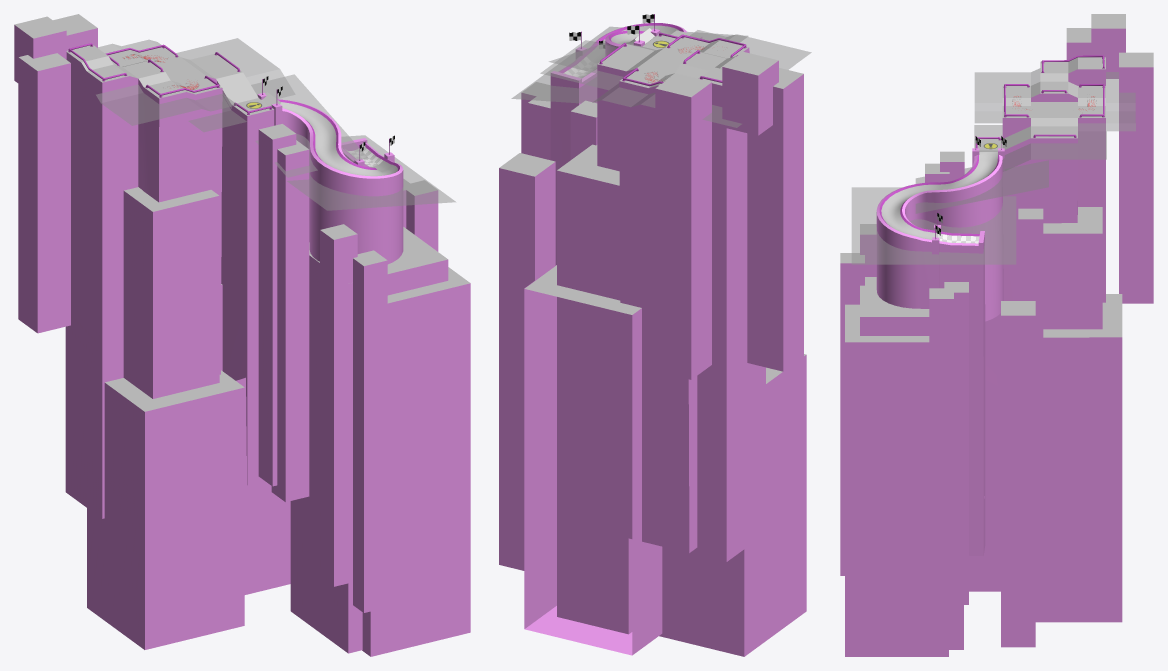
File: _armuprace.fbx
The picture shows the model from 3 angles, left to right: view 1: azimuth 30°, elevation 25°; view 2: azimuth 150°, elevation 25°; view 3: azimuth 270°, elevation 25°; orthographic projection. The views are drawn at different scales.
Visible parts, largest first — view 1: S:Walls(NOSHADOW), Flooring, E:LIMIT, Cylinder01; view 2: S:Walls(NOSHADOW), Flooring, E:LIMIT, Cylinder01, Slide Rims; view 3: S:Walls(NOSHADOW), Flooring, E:LIMIT, Cylinder01, Slide Rims.
Part boxes in pixels (x1,y1,x2,y2): S:Walls(NOSHADOW): [14, 25, 470, 656]; Flooring: [14, 14, 470, 411]; E:LIMIT: [96, 38, 455, 210]; Cylinder01: [68, 43, 389, 160]; S:Walls(NOSHADOW): [499, 24, 806, 656]; Flooring: [499, 25, 806, 383]; E:LIMIT: [511, 26, 811, 127]; Cylinder01: [580, 14, 746, 86]; Slide Rims: [560, 23, 683, 72]; S:Walls(NOSHADOW): [840, 28, 1153, 656]; Flooring: [840, 14, 1153, 342]; E:LIMIT: [851, 68, 1135, 264]; Cylinder01: [935, 55, 1104, 239]; Slide Rims: [879, 154, 999, 236].
Size of the model in its own units: 3409 by 5738 by 3167.
